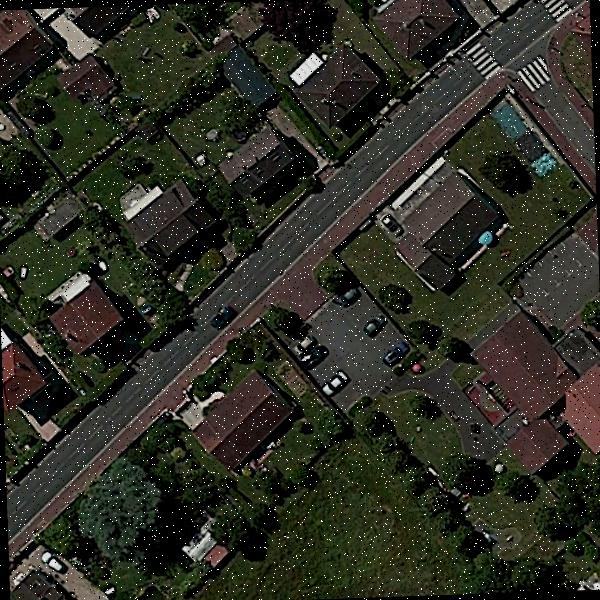Buildings: (466, 318, 600, 472), (402, 169, 492, 286), (193, 375, 293, 464), (128, 178, 205, 252), (297, 48, 369, 125), (0, 8, 56, 94), (375, 0, 451, 58), (58, 284, 118, 349), (2, 340, 46, 412), (229, 136, 287, 188), (12, 565, 87, 600), (66, 62, 108, 91)
